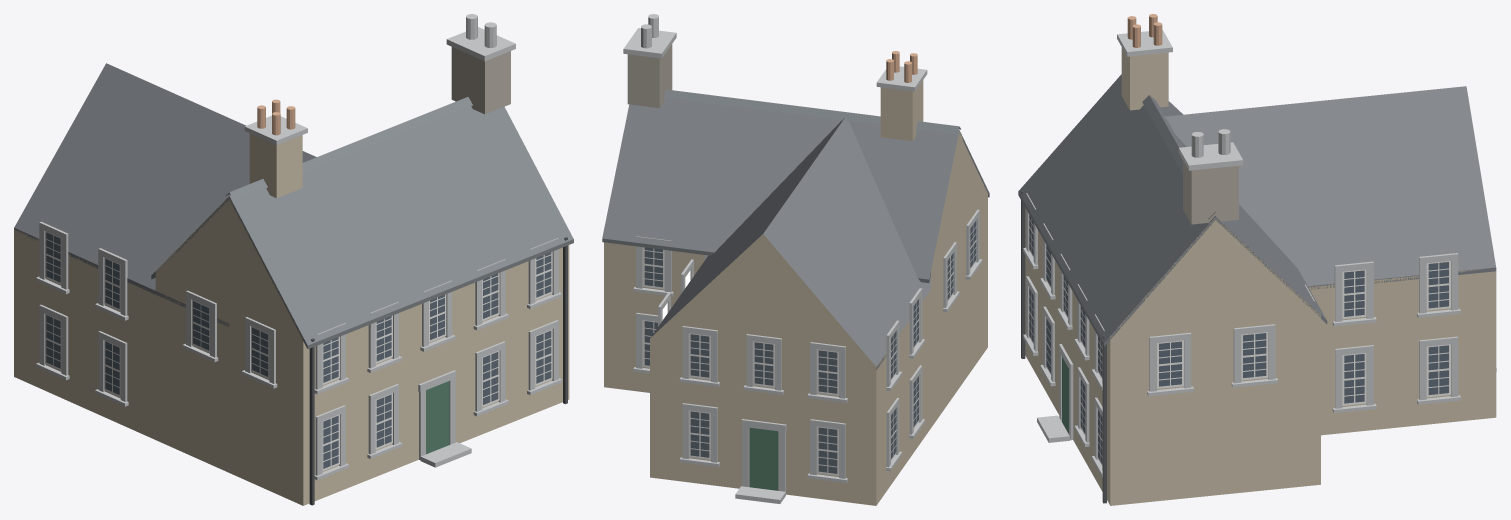
The picture shows the model from 3 angles, left to right: view 1: azimuth 30°, elevation 25°; view 2: azimuth 150°, elevation 25°; view 3: azimuth 270°, elevation 25°; orthographic projection. The views are drawn at different scales.
Visible parts, largest first — view 1: slate, ss_dk, stone_band, frame, chim_stone, pipe, door_green, pot, window_glass_009, window_glass_004, window_glass_002, window_glass_007 (+5 smaller); view 2: slate, ss_dk, stone_band, frame, chim_stone, door_green, window_glass_017, window_glass_018, window_glass_014, window_glass_015, window_glass_016, window_glass_027 (+1 smaller); view 3: slate, ss_dk, stone_band, frame, chim_stone, pipe, window_glass_022, window_glass_011, window_glass_020, window_glass_010, window_glass_021, window_glass_019 (+1 smaller).
Part boxes in pixels (x1,y1,x2,y2): slate: [14, 63, 573, 349]; ss_dk: [14, 133, 569, 505]; stone_band: [36, 14, 561, 480]; frame: [45, 231, 552, 470]; chim_stone: [451, 47, 510, 114]; pipe: [309, 237, 567, 505]; door_green: [426, 381, 449, 454]; pot: [257, 99, 295, 135]; window_glass_009: [323, 415, 338, 468]; window_glass_004: [483, 352, 498, 404]; window_glass_002: [536, 330, 551, 383]; window_glass_007: [376, 394, 391, 447]; slate: [602, 89, 989, 369]; ss_dk: [604, 80, 987, 505]; stone_band: [623, 14, 982, 503]; frame: [642, 220, 976, 475]; chim_stone: [627, 44, 672, 108]; door_green: [749, 427, 778, 490]; window_glass_017: [818, 427, 837, 473]; window_glass_018: [690, 411, 709, 457]; window_glass_014: [818, 350, 837, 393]; window_glass_015: [754, 342, 773, 385]; window_glass_016: [690, 334, 709, 377]; window_glass_027: [644, 247, 662, 287]; slate: [1018, 74, 1496, 346]; ss_dk: [1025, 47, 1496, 505]; stone_band: [1023, 29, 1496, 477]; frame: [1029, 214, 1450, 465]; chim_stone: [1183, 161, 1238, 224]; pipe: [1021, 190, 1106, 503]; window_glass_022: [1428, 345, 1448, 394]; window_glass_011: [1243, 333, 1266, 377]; window_glass_020: [1344, 354, 1364, 403]; window_glass_010: [1159, 341, 1181, 386]; window_glass_021: [1428, 262, 1448, 308]; window_glass_019: [1344, 270, 1364, 316].
Bounding box in the file's own units: 12.72 × 10.83 × 13.25.
